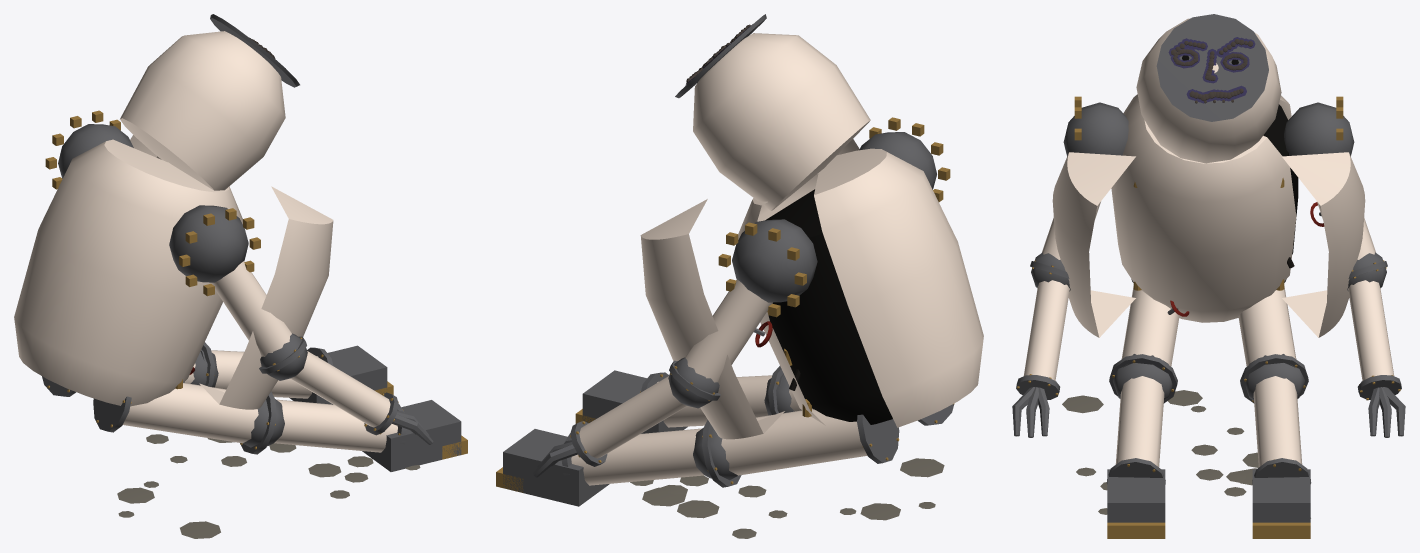
The model's file is macchina_suit.glb.
The picture shows the model from 3 angles, left to right: view 1: azimuth 30°, elevation 25°; view 2: azimuth 150°, elevation 25°; view 3: azimuth 270°, elevation 25°; orthographic projection. The views are drawn at different scales.
Visible parts, largest first — view 1: teil0, teil7, teil5, teil8, teil10, teil14, teil6; view 2: teil0, teil7, teil1, teil8, teil5, teil10, teil14, teil6; view 3: teil0, teil7, teil5, teil8, teil10, teil14, teil6, teil12, teil11, teil1.
Part boxes in pixels (bbox=[...]): teil0: bbox=[14, 31, 333, 409]; teil7: bbox=[123, 261, 397, 452]; teil5: bbox=[58, 14, 299, 282]; teil8: bbox=[42, 333, 433, 454]; teil10: bbox=[289, 345, 461, 471]; teil14: bbox=[117, 434, 420, 538]; teil6: bbox=[45, 110, 467, 459]; teil0: bbox=[640, 33, 983, 439]; teil7: bbox=[571, 279, 867, 485]; teil1: bbox=[765, 189, 892, 424]; teil8: bbox=[533, 328, 954, 487]; teil5: bbox=[675, 14, 936, 302]; teil10: bbox=[503, 370, 687, 506]; teil14: bbox=[630, 458, 944, 538]; teil6: bbox=[496, 117, 950, 492]; teil0: bbox=[1052, 18, 1365, 337]; teil7: bbox=[1023, 202, 1394, 466]; teil5: bbox=[1063, 14, 1354, 156]; teil8: bbox=[1012, 212, 1405, 484]; teil10: bbox=[1107, 469, 1310, 522]; teil14: bbox=[1062, 390, 1310, 518]; teil6: bbox=[1074, 96, 1343, 538]; teil12: bbox=[1168, 37, 1255, 103]; teil11: bbox=[1171, 39, 1253, 103]; teil1: bbox=[1263, 104, 1298, 254].
Bounding box in the file's own units: 1.21 × 1.32 × 1.08.
